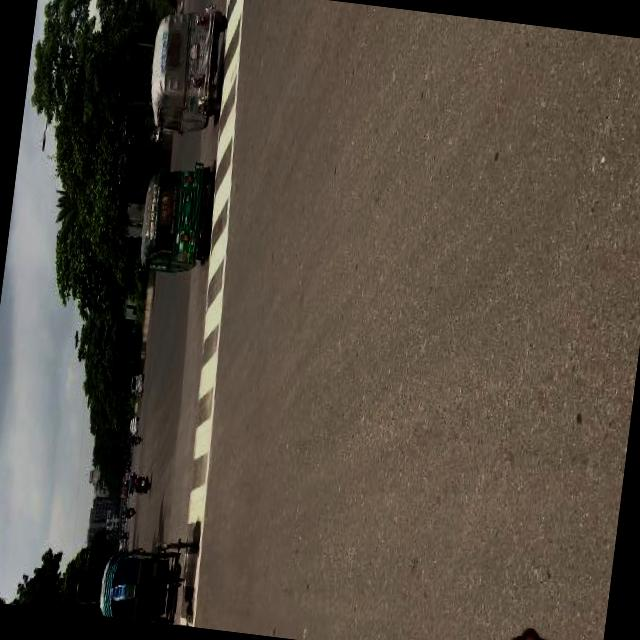car: (128, 414, 138, 436), (118, 535, 128, 552)
motorcycle: (144, 0, 232, 140), (134, 152, 218, 282), (96, 524, 202, 626), (121, 472, 152, 498), (125, 432, 142, 448), (120, 507, 136, 521)
truck: (128, 372, 144, 398), (123, 462, 130, 472)
